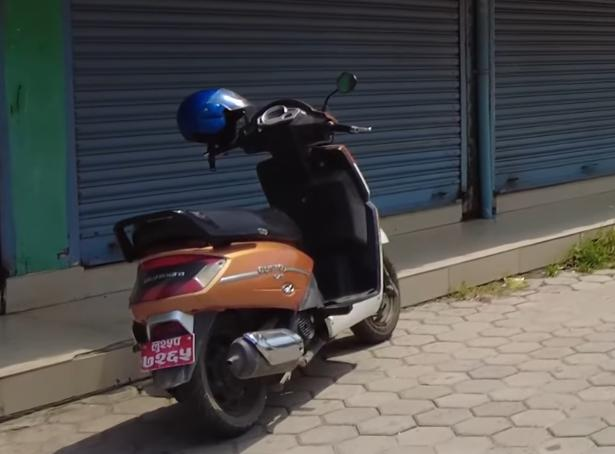scooter: (111, 62, 403, 434)
